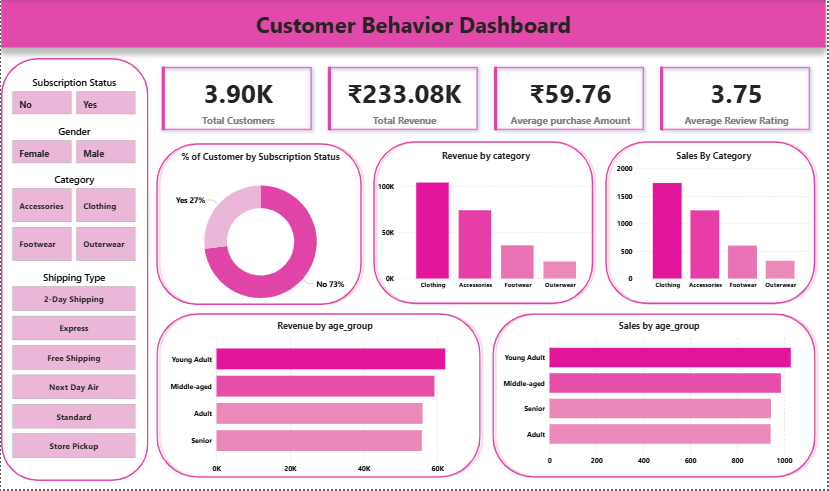

The page's visual inventory and layout, read from the dashboard file:
{"tool":"powerbi","page":{"name":"Page 1","canvas":[1600,950],"ordinal":0},"visuals":[{"type":"shape","box":[0,0,1600,95],"z":0},{"type":"shape","box":[715.1,270.4,439.5,328.5],"z":0,"group":"g1"},{"type":"textbox","box":[0,0,1599.5,95],"z":1000},{"type":"columnChart","title":"Revenue by category","fields":{"Category":["customer.category"],"Y":["_Measures.Total Revenue"]},"box":[724.6,291,430.4,281.1],"z":1000,"group":"g1"},{"type":"cardVisual","fields":{"Data":["_Measures.Total Customers","_Measures.Total Revenue","_Measures.Average purchase Amount","_Measures.Average Review Rating"]},"box":[294.7,114.4,1291.2,157],"z":2000},{"type":"shape","box":[0,114,286,820.1],"z":3000},{"type":"advancedSlicerVisual","title":"Subscription Status","fields":{"Values":["customer.subscription_status"]},"box":[16.8,148.7,249.3,79.6],"z":4000},{"type":"advancedSlicerVisual","title":"Gender","fields":{"Values":["customer.gender"]},"box":[16.8,244,249.3,79.6],"z":5000},{"type":"advancedSlicerVisual","title":"Category","fields":{"Values":["customer.category"]},"box":[16.8,337.3,249.3,176],"z":6000},{"type":"advancedSlicerVisual","title":"Shipping Type","fields":{"Values":["customer.shipping_type"]},"box":[17.4,527.3,248.2,372.2],"z":7000},{"type":"shape","box":[295,272.6,411,326.3],"z":8000,"group":"g2"},{"type":"donutChart","title":"% of Customer by Subscription Status","fields":{"Category":["customer.subscription_status"],"Y":["CountNonNull(customer.item_purchased)"]},"box":[290.5,292.7,424.6,333],"z":9000,"group":"g2"},{"type":"shape","box":[1164.2,270.4,420.1,328.5],"z":10000,"group":"g3"},{"type":"columnChart","title":"Sales By Category","fields":{"Category":["customer.category"],"Y":["_Measures.Total Customers"]},"box":[1188,292,386.7,281.1],"z":11000,"group":"g3"},{"type":"group","id":"g1","title":"Group 1","box":[715.1,270.4,439.9,328.5],"z":12000},{"type":"group","id":"g2","title":"Group 2","box":[290.5,272.6,424.6,353.1],"z":12001},{"type":"group","id":"g3","title":"Group 3","box":[1164.2,270.4,420.1,328.5],"z":12002},{"type":"shape","box":[294.7,603,641.7,331.5],"z":12003,"group":"g4"},{"type":"shape","box":[946.1,603,639.8,331.5],"z":12004,"group":"g5"},{"type":"clusteredBarChart","title":"Revenue by age_group","fields":{"Category":["customer.age_group"],"Y":["_Measures.Total Revenue"]},"box":[321.5,619.8,612.7,309],"z":12005,"group":"g4"},{"type":"clusteredBarChart","title":"Sales by age_group","fields":{"Category":["customer.age_group"],"Y":["_Measures.Total Customers"]},"box":[968.4,619.8,617.5,293.2],"z":12006,"group":"g5"},{"type":"group","id":"g4","title":"Group 4","box":[294.7,603,641.7,331.5],"z":12007},{"type":"group","id":"g5","title":"Group 5","box":[946.1,603,639.8,331.5],"z":12008}]}

Visuals, with their boxes in screenshot pixels (x1, y1, x2, y2), scaled from the page's 1600x950 canvas onto the 829x491 screenshot:
shape: box=[0, 0, 828, 49]
shape: box=[371, 140, 598, 310]
textbox: box=[0, 0, 828, 49]
"Revenue by category" columnChart: box=[375, 150, 598, 296]
cardVisual - _Measures.Total Customers x _Measures.Total Revenue: box=[153, 59, 822, 140]
shape: box=[0, 59, 148, 483]
"Subscription Status" advancedSlicerVisual: box=[9, 77, 138, 118]
"Gender" advancedSlicerVisual: box=[9, 126, 138, 167]
"Category" advancedSlicerVisual: box=[9, 174, 138, 265]
"Shipping Type" advancedSlicerVisual: box=[9, 273, 138, 465]
shape: box=[153, 141, 366, 310]
"% of Customer by Subscription Status" donutChart: box=[151, 151, 371, 323]
shape: box=[603, 140, 821, 310]
"Sales By Category" columnChart: box=[616, 151, 816, 296]
"Group 1" group: box=[371, 140, 598, 310]
"Group 2" group: box=[151, 141, 371, 323]
"Group 3" group: box=[603, 140, 821, 310]
shape: box=[153, 312, 485, 483]
shape: box=[490, 312, 822, 483]
"Revenue by age_group" clusteredBarChart: box=[167, 320, 484, 480]
"Sales by age_group" clusteredBarChart: box=[502, 320, 822, 472]
"Group 4" group: box=[153, 312, 485, 483]
"Group 5" group: box=[490, 312, 822, 483]
